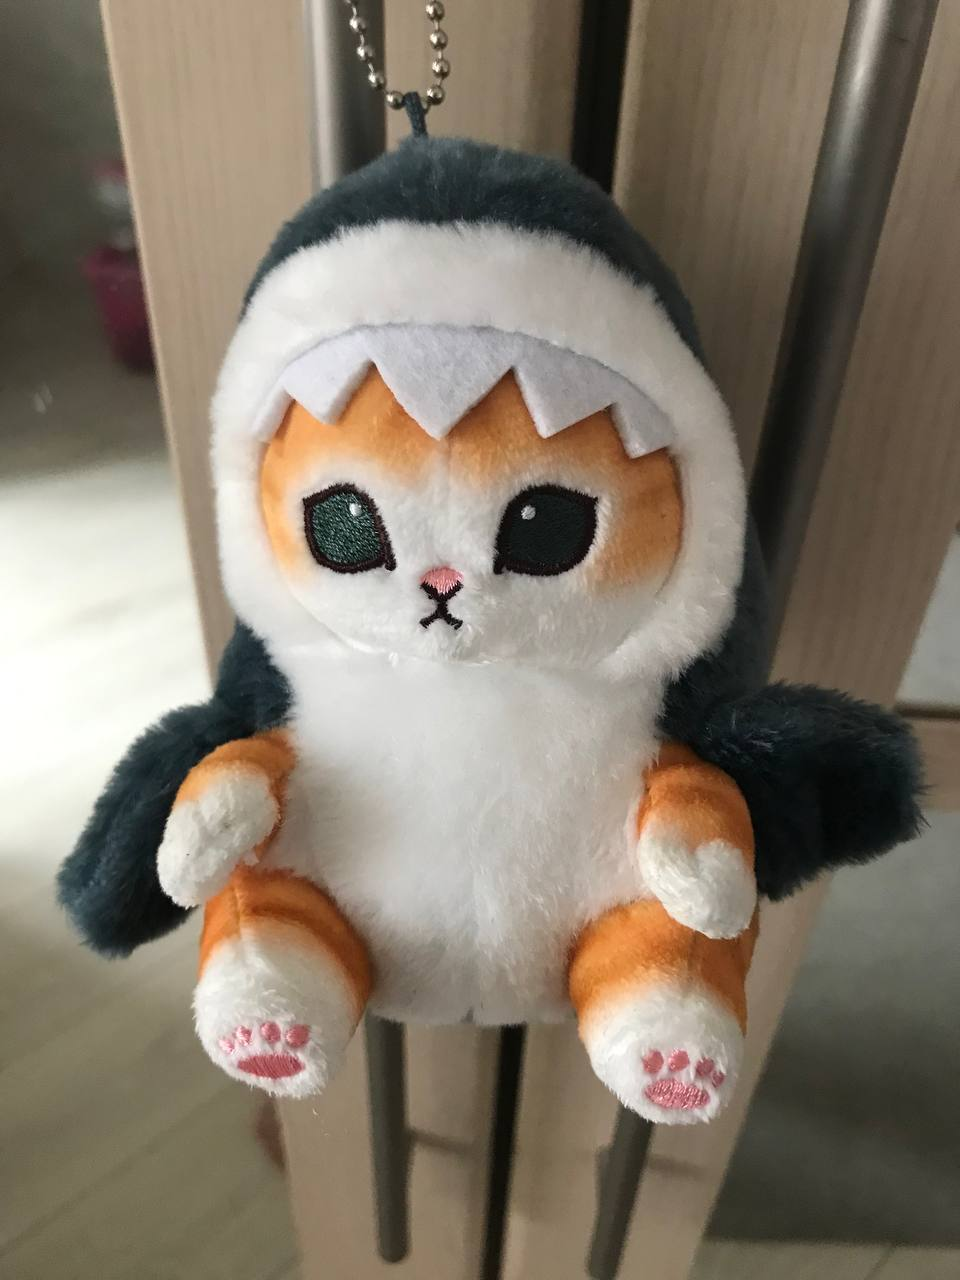cat_shark: (50, 135, 933, 1131)
